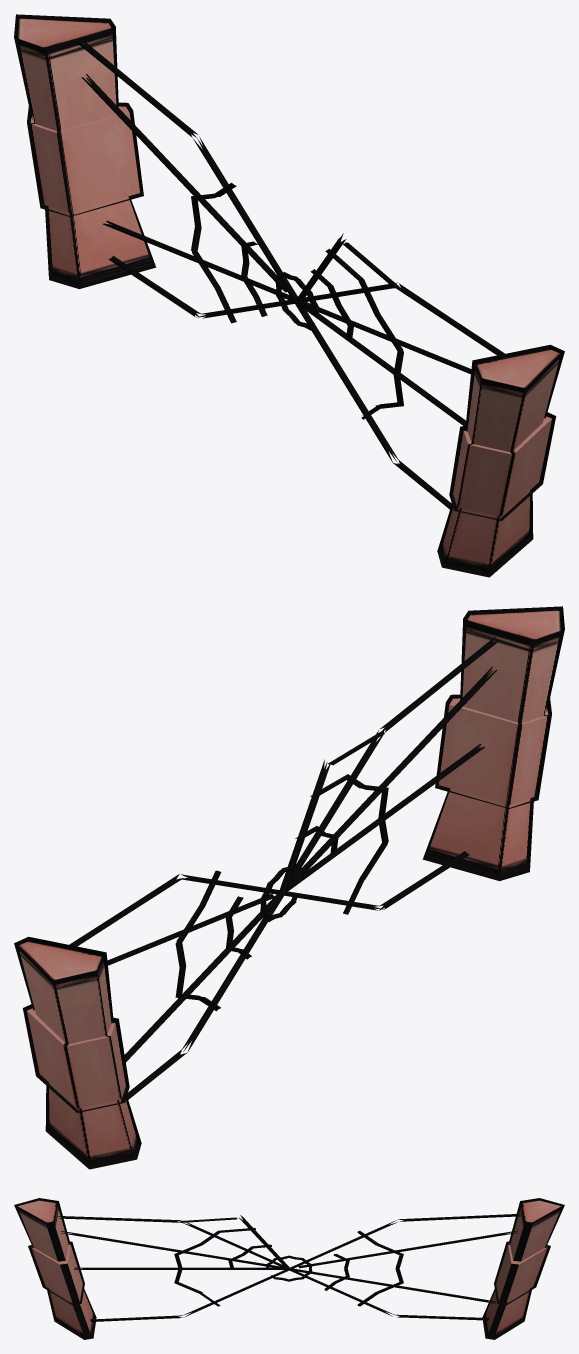
Rendered from bouncy_wall_state1.FBX.
3 views of the same model, one above another, from view 1: azimuth 30°, elevation 25°; view 2: azimuth 150°, elevation 25°; view 3: azimuth 270°, elevation 25° (orthographic). The views are drawn at different scales.
Parts seen in each view (by area): view 1: Torus008, Box104; view 2: Torus008, Box104; view 3: Torus008, Box104.
Boxes of the visible parts, x1=… form: Torus008: x1=17, y1=18, x2=560, y2=572; Box104: x1=14, y1=14, x2=564, y2=577; Torus008: x1=18, y1=610, x2=561, y2=1164; Box104: x1=14, y1=606, x2=564, y2=1169; Torus008: x1=16, y1=1200, x2=562, y2=1337; Box104: x1=14, y1=1198, x2=564, y2=1339.
Bounding box in the file's own units: 0.2383 × 0.5085 × 2.17.
Materials: 2 (1 with a texture image).
